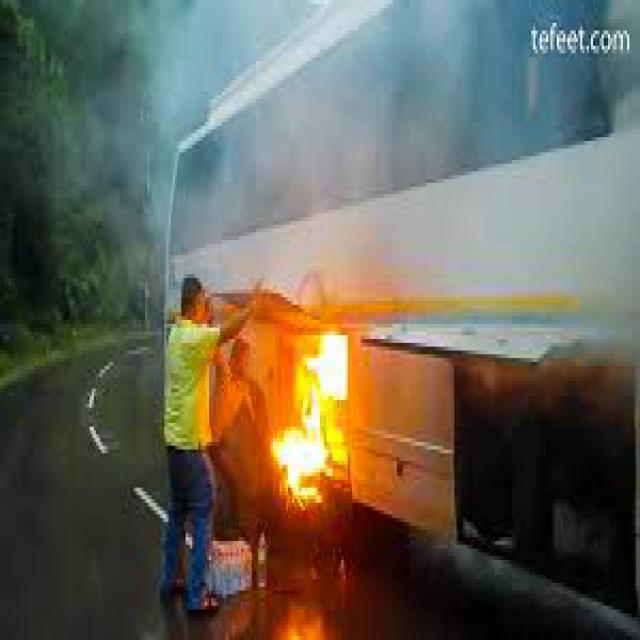fire: (253, 306, 376, 527)
